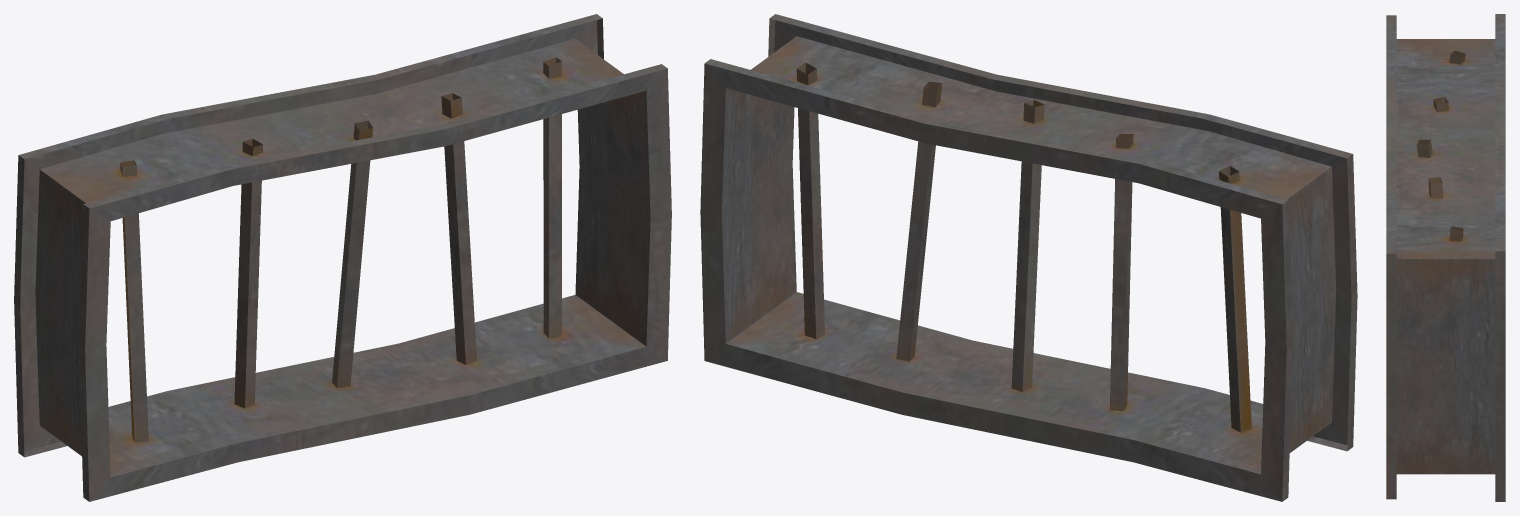
The model's file is resetka_big_01.glb.
3 renders of one model, left to right at view 1: azimuth 30°, elevation 25°; view 2: azimuth 150°, elevation 25°; view 3: azimuth 270°, elevation 25°, orthographic. The views are drawn at different scales.
Parts seen in each view (by area): view 1: resetka_big_01; view 2: resetka_big_01; view 3: resetka_big_01.
Part boxes in pixels (left/top/right/bottom): resetka_big_01: left=14, top=14, right=671, bottom=501; resetka_big_01: left=700, top=14, right=1357, bottom=501; resetka_big_01: left=1386, top=14, right=1505, bottom=501.
Size of the model in its own units: 1.18 by 0.5958 by 0.2481.
1 material, 1 textured.
